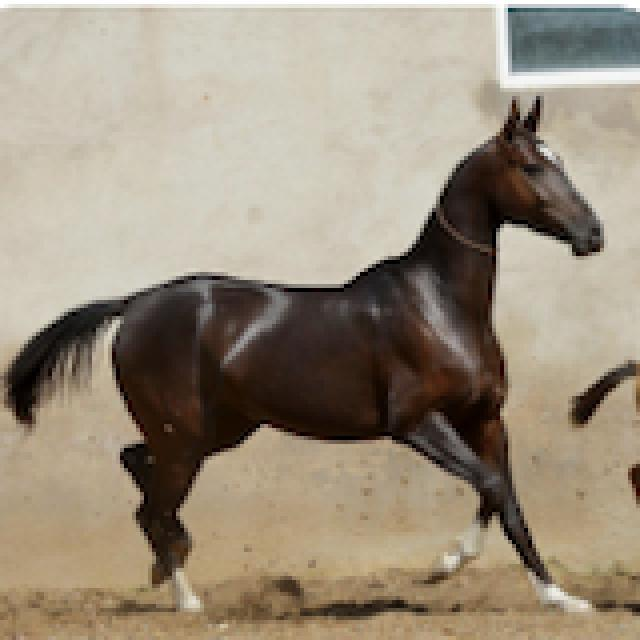Horse: (0, 88, 612, 620)
